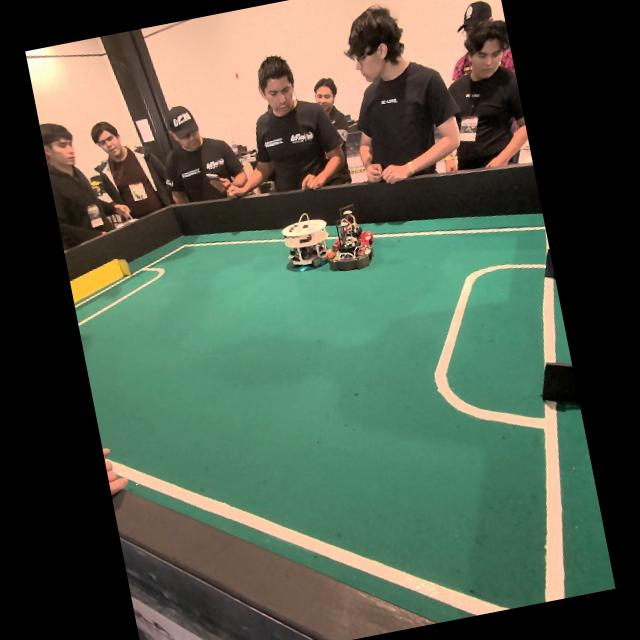ball: (327, 252, 334, 260)
goal: (69, 259, 131, 303), (541, 363, 579, 405)
robot: (281, 213, 330, 267), (327, 215, 374, 271), (338, 203, 373, 244)
